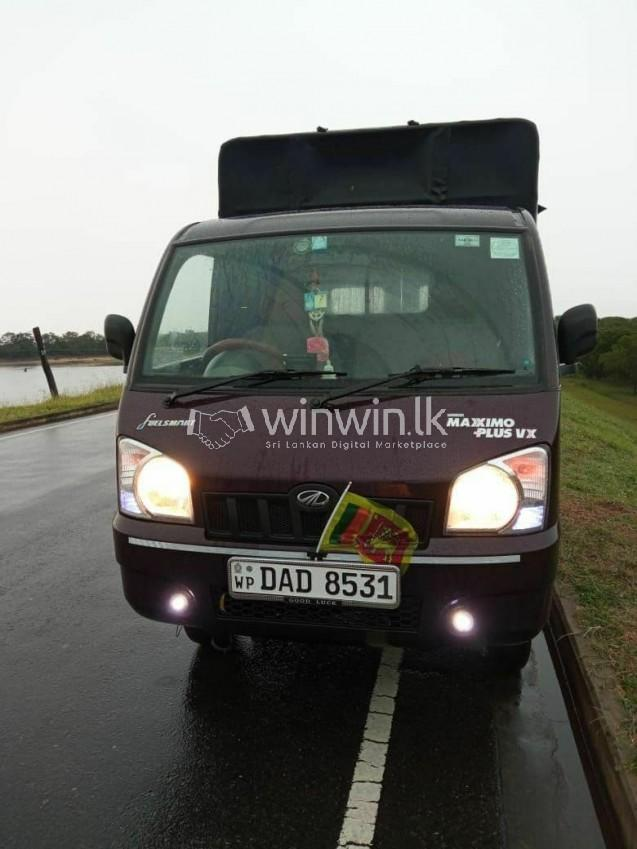truck: (101, 116, 598, 672)
